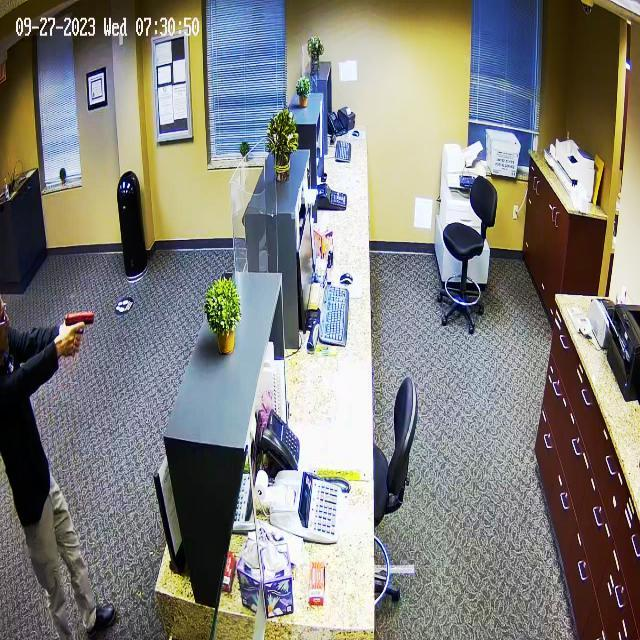Gun: (59, 302, 108, 351)
